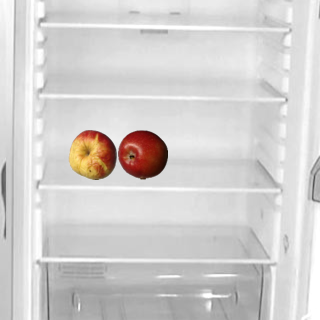Apple Braeburn: (117, 129, 167, 179)
Apple Red Yellow 1: (67, 129, 117, 179)
